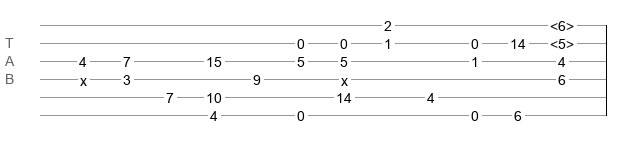0: (297, 108, 305, 118), (297, 36, 305, 46), (340, 36, 348, 46), (471, 108, 479, 118), (471, 36, 479, 46)
1: (384, 36, 392, 46), (471, 54, 479, 64)
10: (206, 90, 222, 100)
14: (336, 90, 352, 100), (510, 36, 526, 46)
15: (206, 54, 222, 64)
2: (384, 18, 392, 28)
3: (123, 72, 131, 82)
4: (79, 54, 87, 64), (210, 108, 218, 118), (427, 90, 435, 100), (558, 54, 566, 64)
5: (297, 54, 305, 64), (340, 54, 348, 64)
6: (514, 108, 522, 118), (558, 72, 566, 82)
7: (123, 54, 131, 64), (166, 90, 174, 100)
9: (253, 72, 261, 82)
harmonic: (550, 18, 574, 28), (550, 36, 574, 46)
x: (80, 73, 87, 81), (341, 73, 348, 81)
